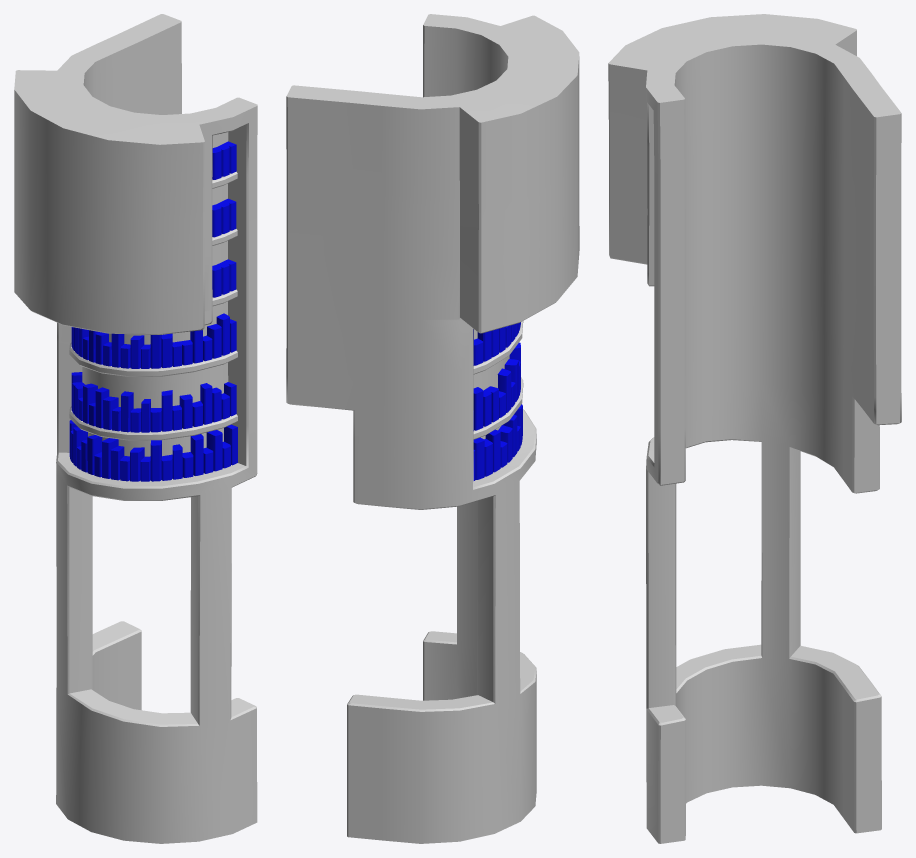
The model's file is Bookshelf1.fbx.
3 views of the same model, side by side, from view 1: azimuth 30°, elevation 25°; view 2: azimuth 150°, elevation 25°; view 3: azimuth 270°, elevation 25° (orthographic). The views are drawn at different scales.
Parts seen in each view (by area): view 1: Cylinder003, Object005; view 2: Cylinder003, Object005; view 3: Cylinder003.
Boxes of the visible parts, x1,y1,x2,y2 form: Cylinder003: (14,14,257,843); Object005: (69,141,237,481); Cylinder003: (286,14,579,843); Object005: (473,322,522,480); Cylinder003: (608,14,901,843).
Bounding box in the file's own units: 4533 × 15140 × 5430.
